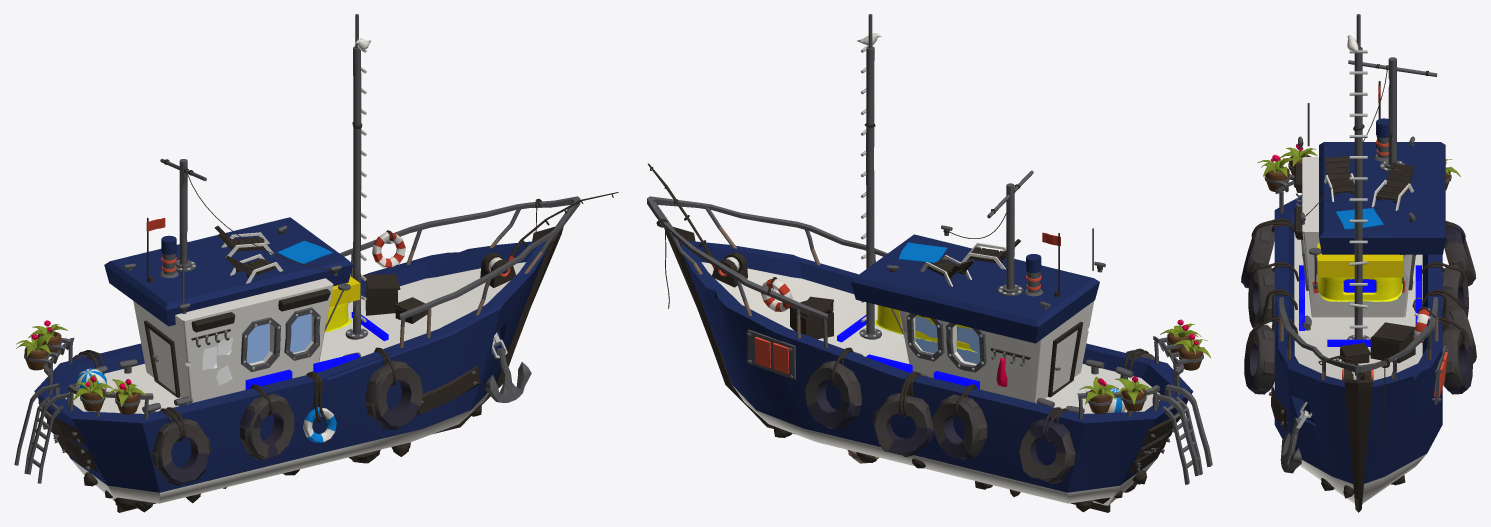
The model's file is boat_cartoon_3d.glb.
3 renders of one model, left to right at view 1: azimuth 30°, elevation 25°; view 2: azimuth 150°, elevation 25°; view 3: azimuth 270°, elevation 25°, orthographic. The views are drawn at different scales.
Parts seen in each view (by area): view 1: polySurface208_Mesh.017, polySurface203_Mesh.140, pCube126_Mesh.674, pCylinder427_Mesh.594, polySurface202_Mesh.003, polySurface205_Mesh.034, pCylinder480_Mesh.648, pCube114_Mesh.148, polySurface206_Mesh.030, pCube124_Mesh.665, pCube116_Mesh.627, pCube119_Mesh.177 (+14 smaller); view 2: polySurface208_Mesh.017, pCube126_Mesh.674, pCylinder427_Mesh.594, polySurface203_Mesh.140, polySurface202_Mesh.003, polySurface205_Mesh.034, pCylinder480_Mesh.648, polySurface206_Mesh.030, pCube115_Mesh.610, pCylinder460_Mesh.631, Object_7, pCylinder513_Mesh.673 (+13 smaller); view 3: polySurface208_Mesh.017, pCube126_Mesh.674, pCylinder427_Mesh.594, polySurface202_Mesh.003, polySurface203_Mesh.140, polySurface206_Mesh.030, pCylinder480_Mesh.648, Object_9, Object_12, polySurface205_Mesh.034, Object_7, pCube146_Mesh.693 (+15 smaller).
Boxes of the visible parts, x1,y1,x2,y2 form: polySurface208_Mesh.017: (34, 241, 546, 503); polySurface203_Mesh.140: (133, 278, 333, 403); pCube126_Mesh.674: (104, 217, 353, 326); pCylinder427_Mesh.594: (72, 347, 422, 485); polySurface202_Mesh.003: (65, 262, 525, 413); polySurface205_Mesh.034: (340, 196, 580, 319); pCylinder480_Mesh.648: (353, 46, 361, 334); pCube114_Mesh.148: (241, 307, 320, 372); polySurface206_Mesh.030: (117, 226, 563, 512); pCube124_Mesh.665: (485, 348, 531, 402); pCube116_Mesh.627: (416, 366, 480, 415); pCube119_Mesh.177: (191, 289, 330, 332); polySurface208_Mesh.017: (680, 241, 1193, 505); pCube126_Mesh.674: (851, 234, 1099, 343); pCylinder427_Mesh.594: (805, 347, 1159, 483); polySurface203_Mesh.140: (899, 301, 1094, 403); polySurface202_Mesh.003: (701, 262, 1159, 413); polySurface205_Mesh.034: (647, 196, 887, 319); pCylinder480_Mesh.648: (866, 46, 874, 334); polySurface206_Mesh.030: (664, 227, 1110, 512); pCube115_Mesh.610: (906, 313, 986, 372); pCylinder460_Mesh.631: (654, 201, 875, 348); Object_7: (837, 315, 979, 389); pCylinder513_Mesh.673: (1006, 183, 1014, 289); polySurface208_Mesh.017: (1274, 197, 1442, 503); pCube126_Mesh.674: (1319, 142, 1445, 254); pCylinder427_Mesh.594: (1241, 218, 1476, 394); polySurface202_Mesh.003: (1294, 232, 1422, 380); polySurface203_Mesh.140: (1302, 157, 1412, 317); polySurface206_Mesh.030: (1344, 379, 1372, 512); pCylinder480_Mesh.648: (1354, 47, 1362, 339); Object_9: (1317, 243, 1403, 277); Object_12: (1318, 277, 1402, 301); polySurface205_Mesh.034: (1279, 297, 1437, 372); Object_7: (1299, 265, 1421, 346); pCube146_Mesh.693: (1371, 162, 1414, 210).
Bounding box in the file's own units: 5.08 × 3.69 × 1.76.
Materials: 22 (4 with a texture image).
